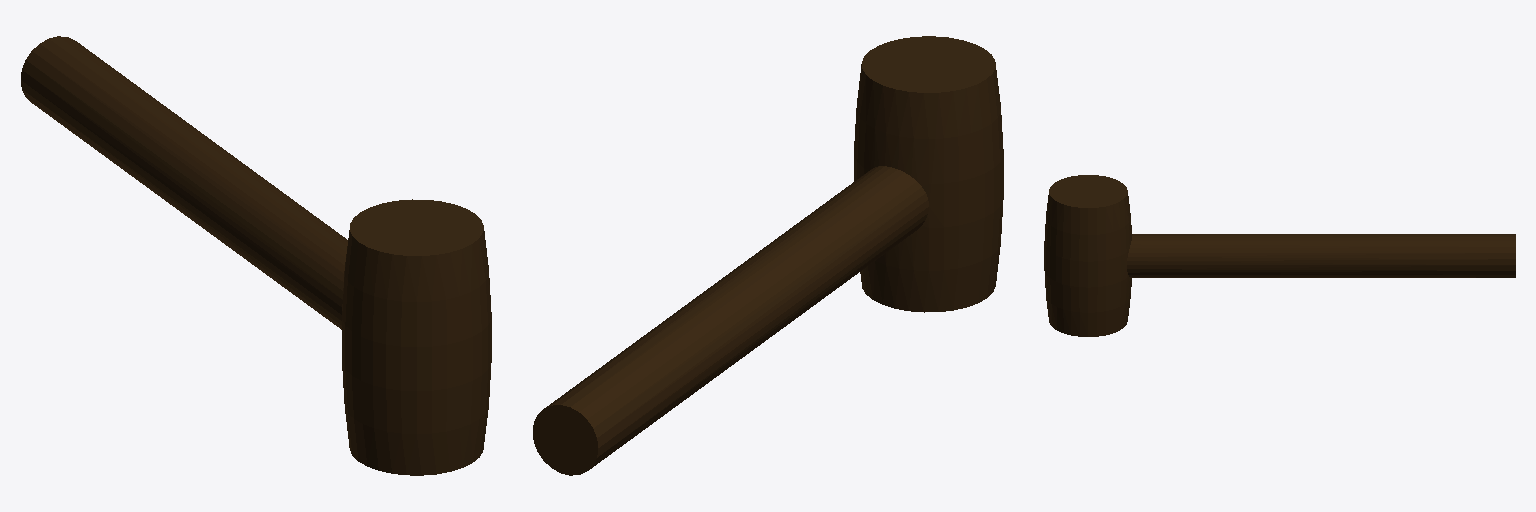
URDF robot description (hammer):
<?xml version="1.0"?>
<!--
  Hammer (rubber mallet) URDF
  - 좌표계: 그리퍼 grip origin(STL의 0,0,0) = hammer_link 원점
  - Strike 면 중심: (0, -0.087, -0.027) m, 반경 0.015 m  (Y가 손잡이 축)
  - 단위: meters (STL 은 mm 라 mesh scale = 0.001)
  - 질량 0.5 kg (rubber mallet 일반치, 실측 시 inertia 와 함께 교체)
  - inertia 는 bounding box (0.0335 × 0.179 × 0.054 m) 균질 근사
-->
<robot name="hammer">
  <link name="hammer_link">
    <visual>
      <origin xyz="0 0 0" rpy="0 0 0"/>
      <geometry>
        <mesh filename="package://hammer/hammer.stl" scale="0.001 0.001 0.001"/>
      </geometry>
      <material name="rubber_dark">
        <color rgba="0.25 0.18 0.10 1.0"/>
      </material>
    </visual>

    <collision>
      <origin xyz="0 0 0" rpy="0 0 0"/>
      <geometry>
        <mesh filename="package://hammer/hammer.stl" scale="0.001 0.001 0.001"/>
      </geometry>
    </collision>

    <inertial>
      <!-- COM: bounding box 중앙 (0, -0.014, 0) -->
      <origin xyz="0.0 -0.014 0.0" rpy="0 0 0"/>
      <mass value="0.5"/>
      <inertia
        ixx="0.001457"  ixy="0.0"      ixz="0.0"
        iyy="0.000168"  iyz="0.0"
        izz="0.001381"/>
    </inertial>
  </link>

  <!--
    Strike frame:
      - 위치: 머리 아래쪽(Z_min) 면 중앙, hammer_link 기준 (0, -0.087, -0.027) m
      - 회전: 자식의 +Z 가 strike normal(타격 방향, hammer_link -Z) 을 가리키도록 X축 180°
              → trajectory 코드는 hammer_strike +Z 를 못의 -Z 와 정렬시키면 됨
  -->
  <link name="hammer_strike"/>
  <joint name="hammer_strike_fixed" type="fixed">
    <parent link="hammer_link"/>
    <child  link="hammer_strike"/>
    <origin xyz="0.0 -0.087 -0.027" rpy="3.14159265 0 0"/>
  </joint>
</robot>

--- Facts derived from the render (not from the file) ---
The picture shows the robot from 3 angles, left to right: view 1: azimuth 30°, elevation 25°; view 2: azimuth 150°, elevation 25°; view 3: azimuth 270°, elevation 25°; orthographic projection.
Robot: hammer — 2 links, 1 joints (1 fixed); root link hammer_link; default pose: every joint at zero.
Links seen in each view (by area): view 1: hammer_link; view 2: hammer_link; view 3: hammer_link.
Boxes of the visible links, <box> form: hammer_link: <box>21,36,491,475</box>; hammer_link: <box>533,36,1003,475</box>; hammer_link: <box>1044,175,1515,336</box>.
Bounding box of the posed robot: 0.0335 × 0.1787 × 0.054 m (x, y, z).
1 mesh visuals loaded from 1 distinct referenced files (1 binary STL).
